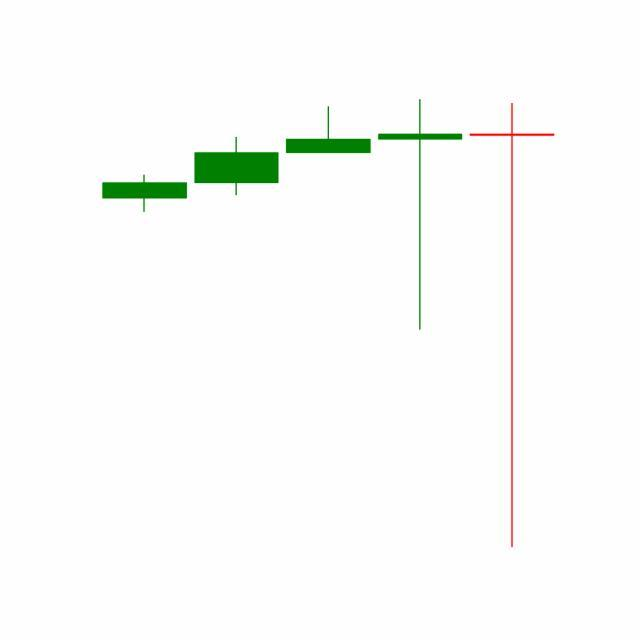Spinning Top: (374, 97, 468, 334)
